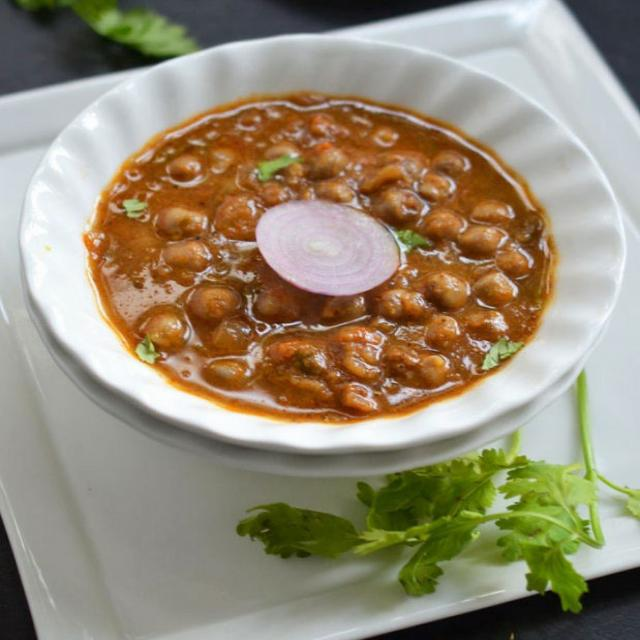Chole: (90, 92, 555, 423)
